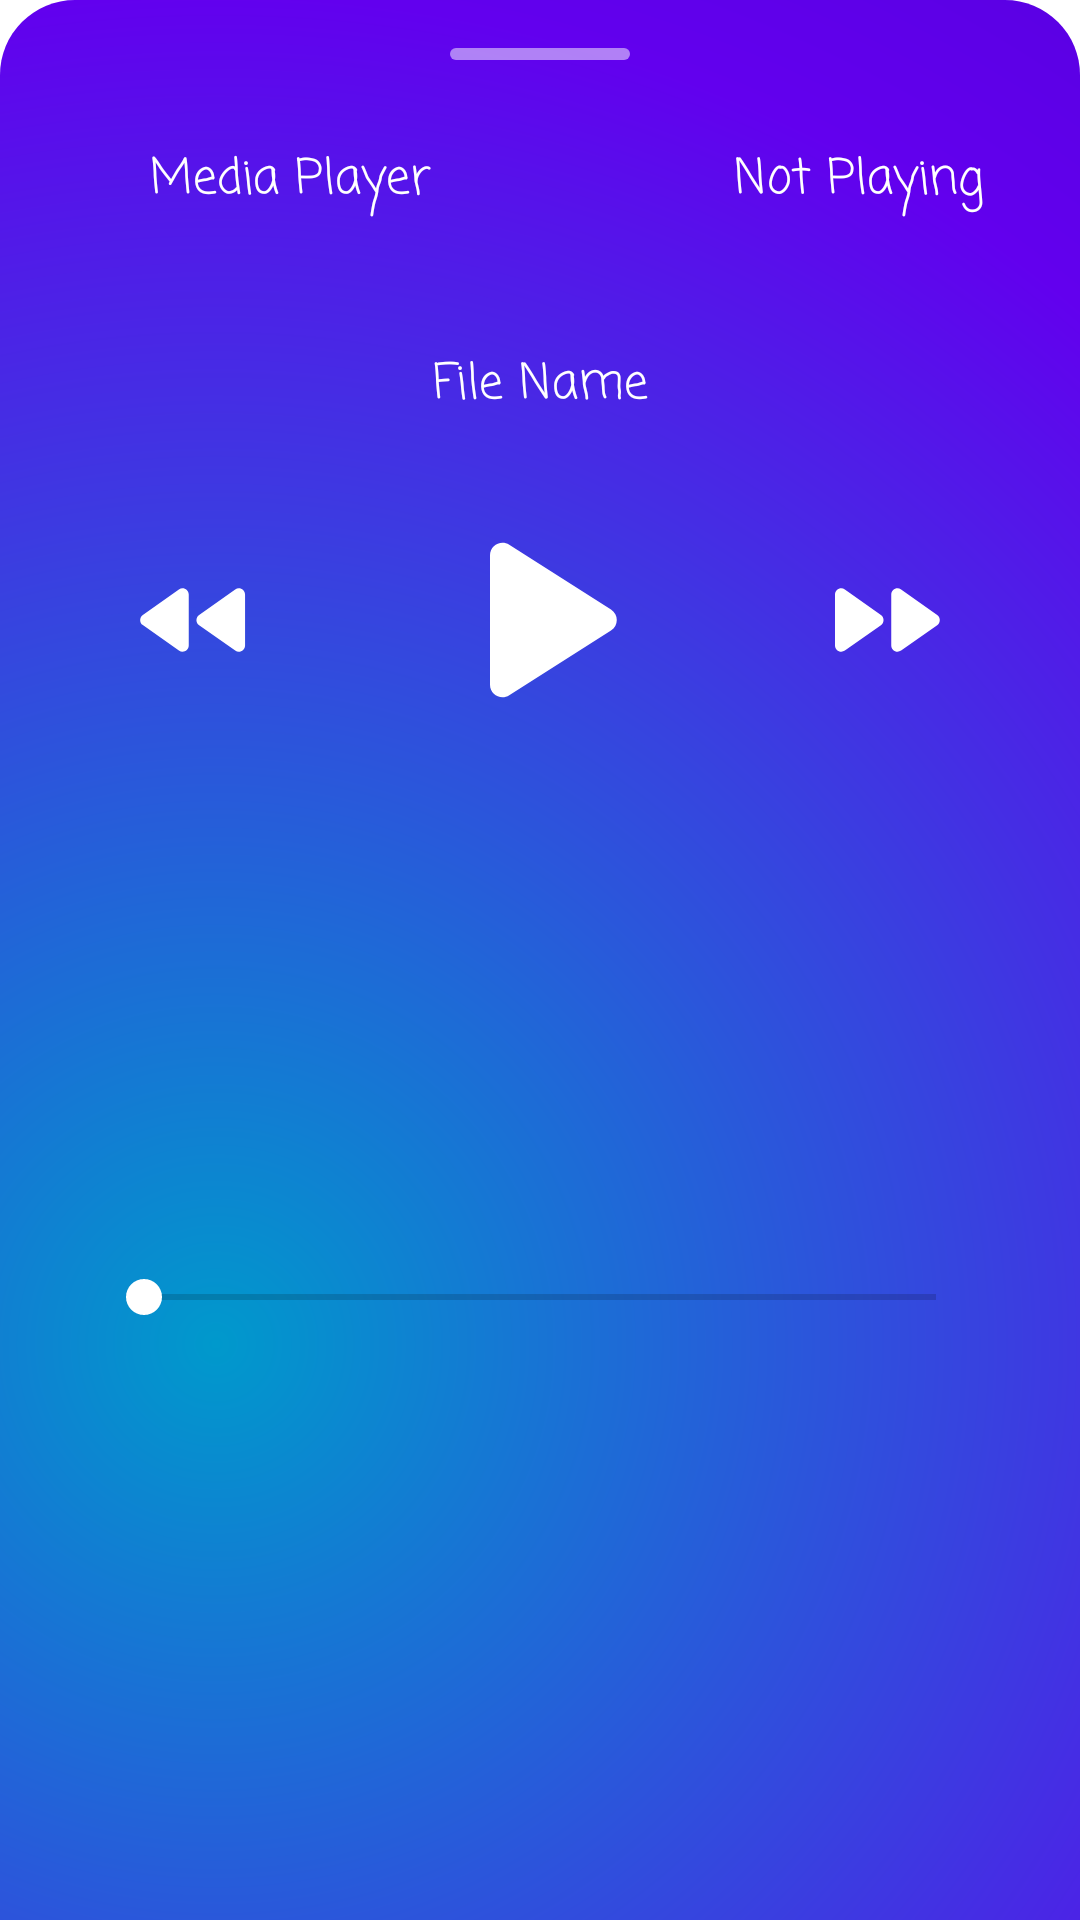

Named icons in this screenshot (1080×1920) and their bounding boxes, box(x1, y1, x2, y2):
forward: box(835, 588, 940, 652)
play: box(390, 542, 617, 770)
previous: box(140, 588, 245, 652)
